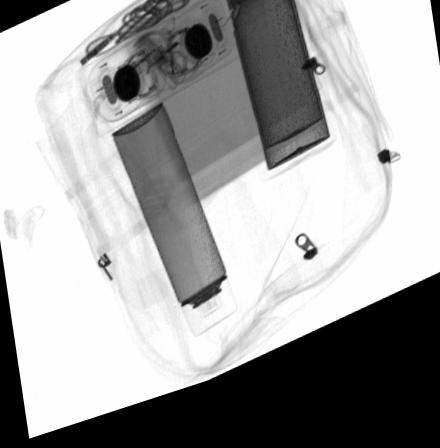Lighter: (128, 36, 195, 87)
Sprayer: (109, 112, 238, 350)
